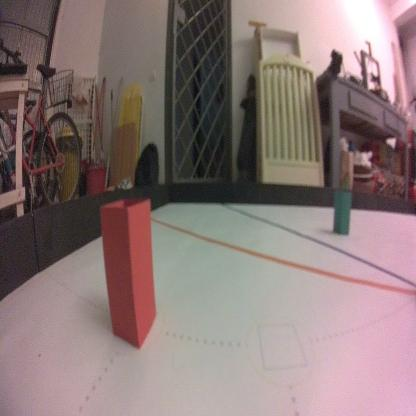green: (332, 189, 352, 237)
red: (99, 195, 157, 350)
